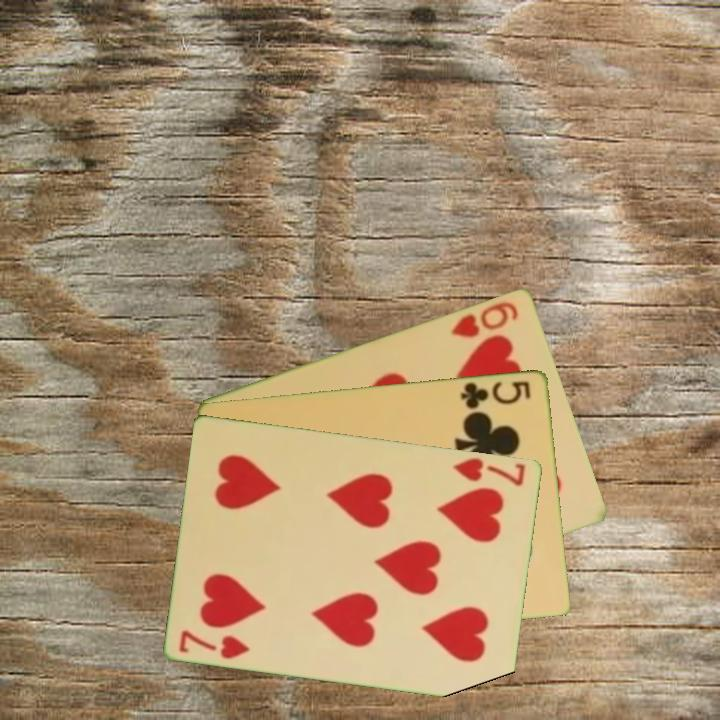5c: (457, 377, 534, 412)
6h: (448, 297, 522, 340)
7h: (176, 626, 253, 662), (449, 454, 528, 489)
